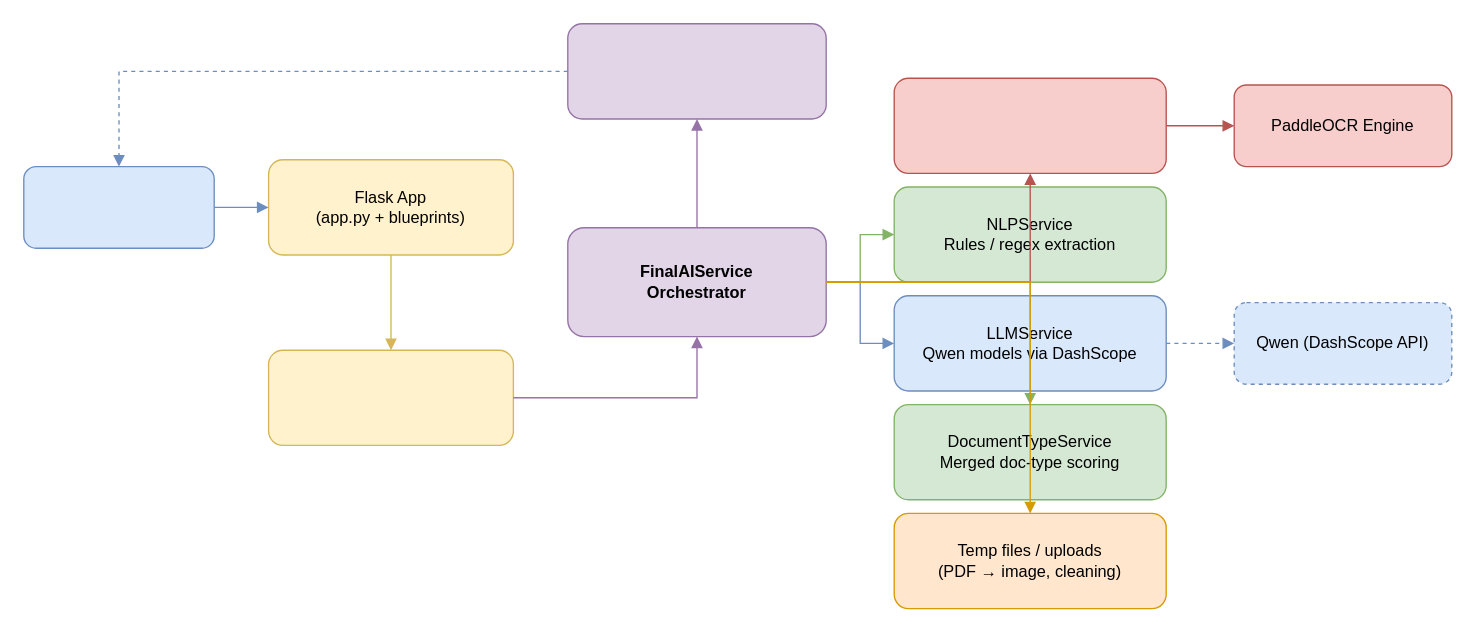
This 1476x632 diagram has some shape labels left out. The centre of each missing label's shape, as x and y in pixels:
"AI Blueprint /api/v1/ai/process" goes at (x=390, y=397).
"Client / Frontend" goes at (x=118, y=206).
"Normalized JSON response (fields, doc type, summary)" goes at (x=696, y=70).
"OCRService (lazy load PaddleOCR)" goes at (x=1029, y=125).
